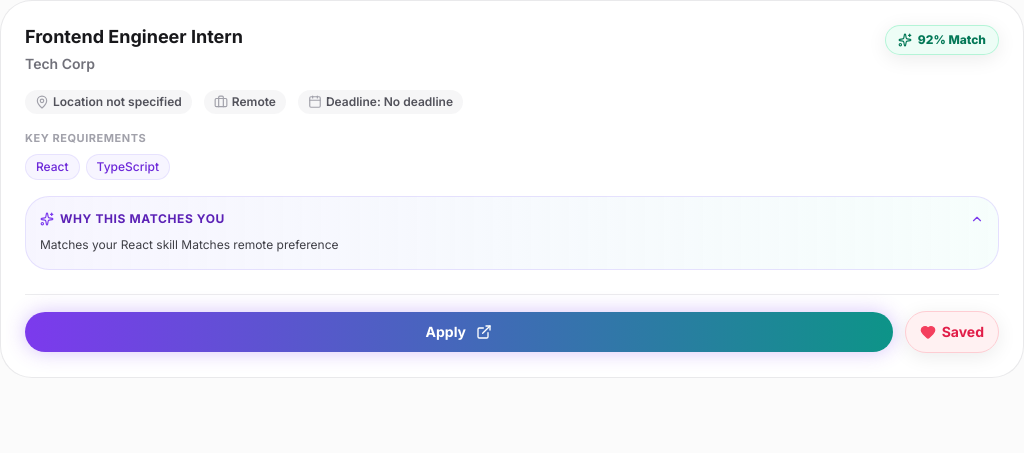
RecommendationCard - Save/Unsave Toggle › does not falsely toggle state if unsave API fails
This screenshot has width=1024, height=453.
Click the button with aria-label "Unsave".
click(952, 332)  # box top-left (905, 311), bottom-right (999, 353)
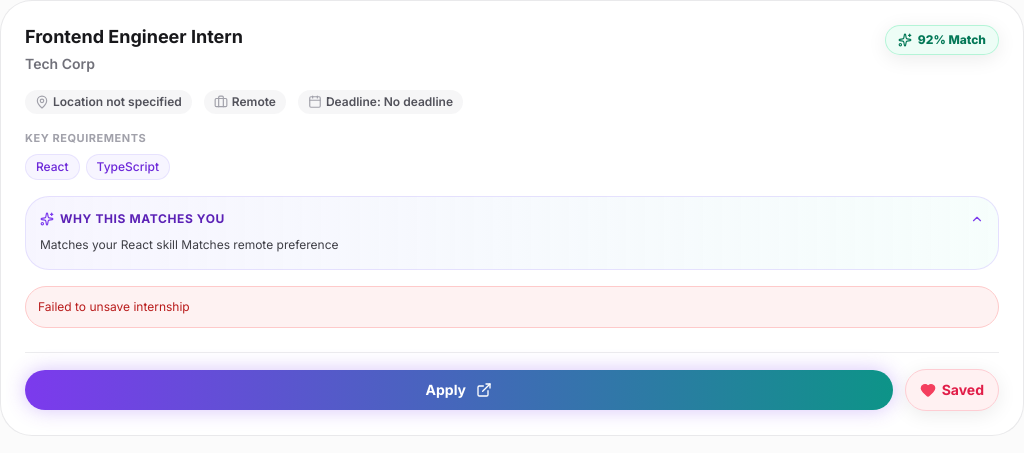
Expected: the button with aria-label "Unsave" is shown, top-left (905, 369), bottom-right (999, 411)
Result: the text "Failed to unsave internship" is shown at top-left (25, 286), bottom-right (999, 328)
